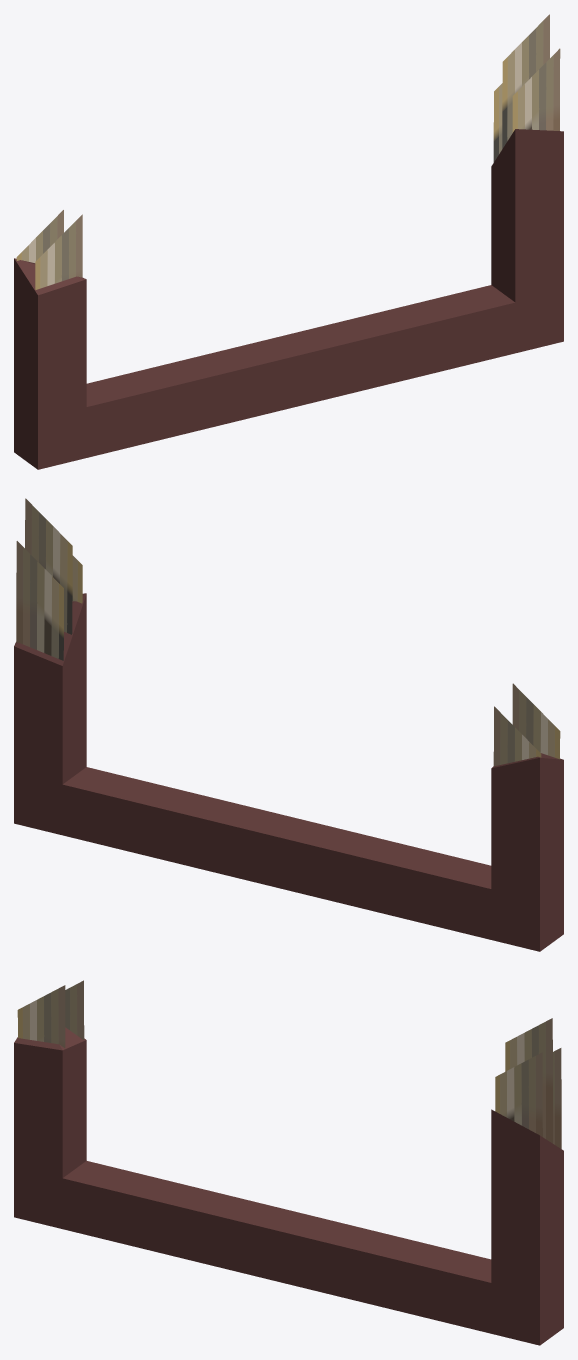
Rendered from DBK_WinSmall_Wood_Tile.fbx.
The picture shows the model from 3 angles, top to bottom: view 1: azimuth 30°, elevation 25°; view 2: azimuth 150°, elevation 25°; view 3: azimuth 330°, elevation 25°; orthographic projection.
Parts seen in each view (by area): view 1: DBK_WinSmall_Wood_Tile; view 2: DBK_WinSmall_Wood_Tile; view 3: DBK_WinSmall_Wood_Tile.
Part boxes in pixels (bbox=[...]): DBK_WinSmall_Wood_Tile: bbox=[14, 14, 563, 469]; DBK_WinSmall_Wood_Tile: bbox=[14, 498, 563, 951]; DBK_WinSmall_Wood_Tile: bbox=[14, 980, 563, 1345].
Size of the model in its own units: 60 by 34.64 by 4.75.
